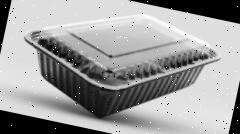plastic: (10, 0, 226, 134)
